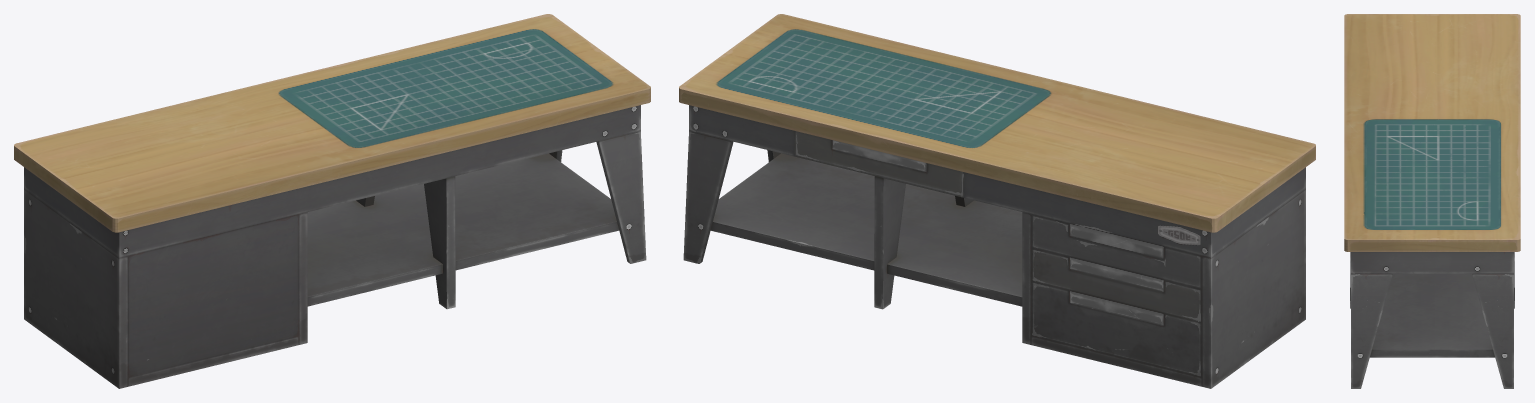
The model's file is P_ToolTable_002_S1_M01.obj.
3 renders of one model, left to right at view 1: azimuth 30°, elevation 25°; view 2: azimuth 150°, elevation 25°; view 3: azimuth 270°, elevation 25°, orthographic. The views are drawn at different scales.
Bounding box in the file's own units: 3.03 × 0.9372 × 1.
Materials: 1 (1 with a texture image).
